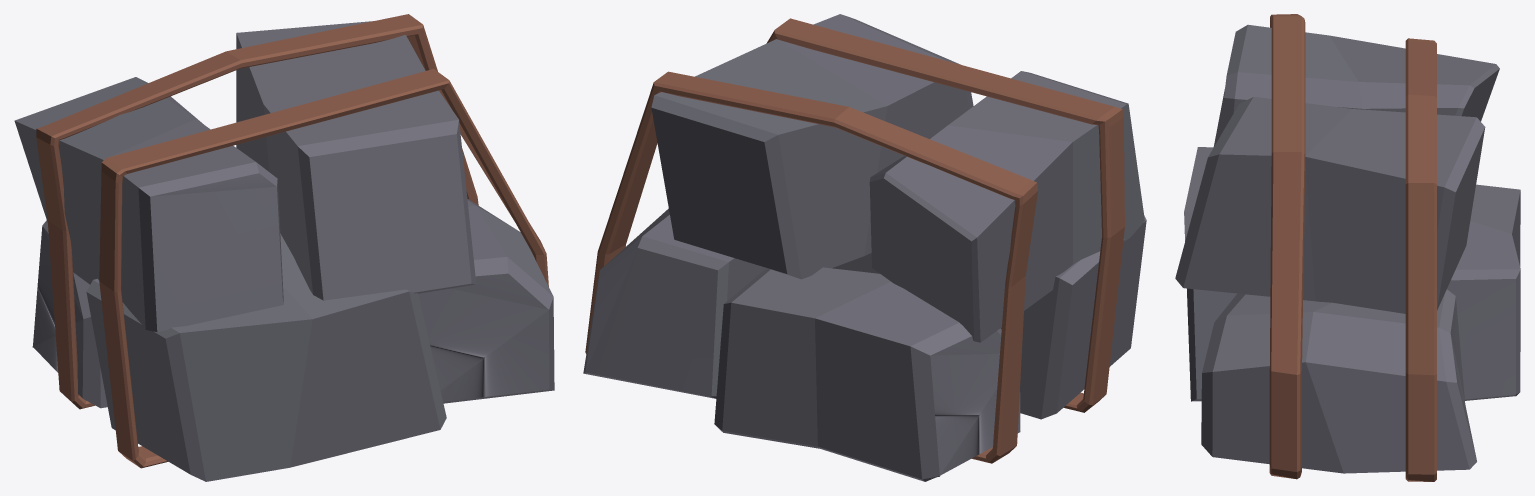
File: CutRocks#1.fbx
The picture shows the model from 3 angles, left to right: view 1: azimuth 30°, elevation 25°; view 2: azimuth 150°, elevation 25°; view 3: azimuth 270°, elevation 25°; orthographic projection. The views are drawn at different scales.
Parts seen in each view (by area): view 1: CutRockPile; view 2: CutRockPile; view 3: CutRockPile.
Part boxes in pixels (x1,y1,x2,y2): CutRockPile: [14, 14, 554, 481]; CutRockPile: [583, 14, 1146, 481]; CutRockPile: [1175, 14, 1520, 481].
Bounding box in the file's own units: 441 × 290 × 322.
